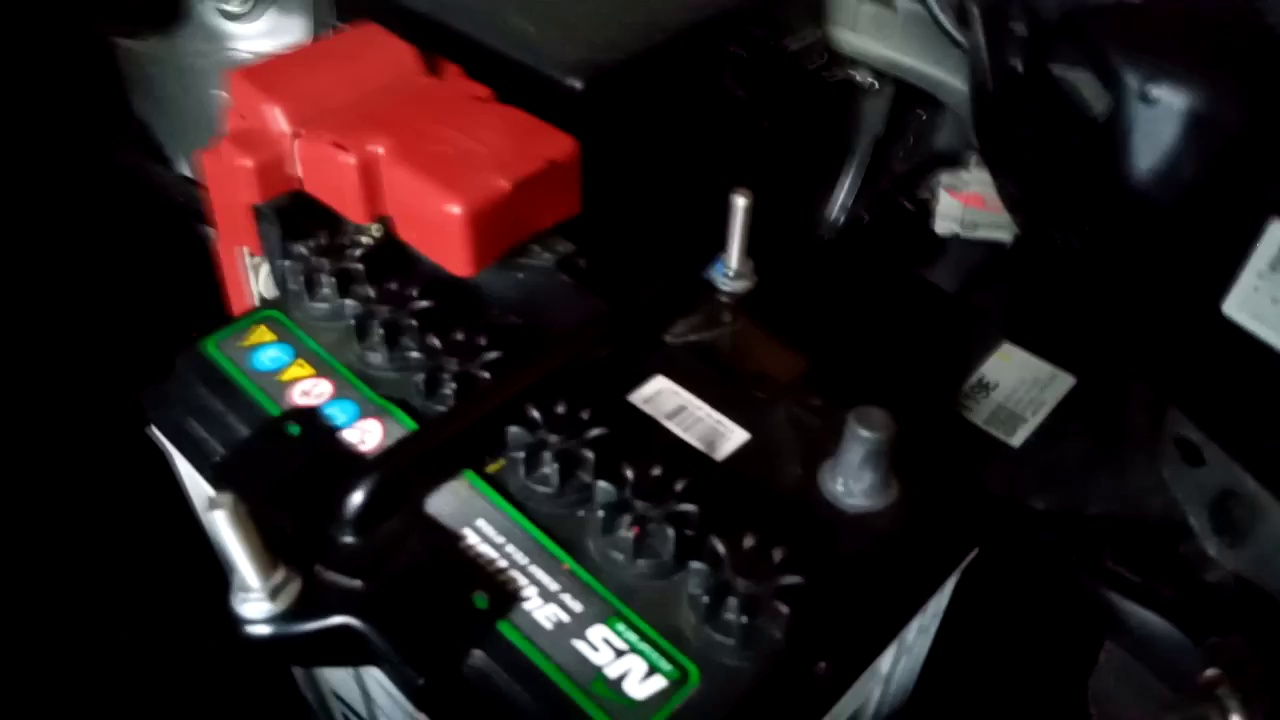battery: (160, 143, 959, 720)
neg_disconnected: (773, 373, 945, 547)
pos_connected: (172, 30, 586, 330)
